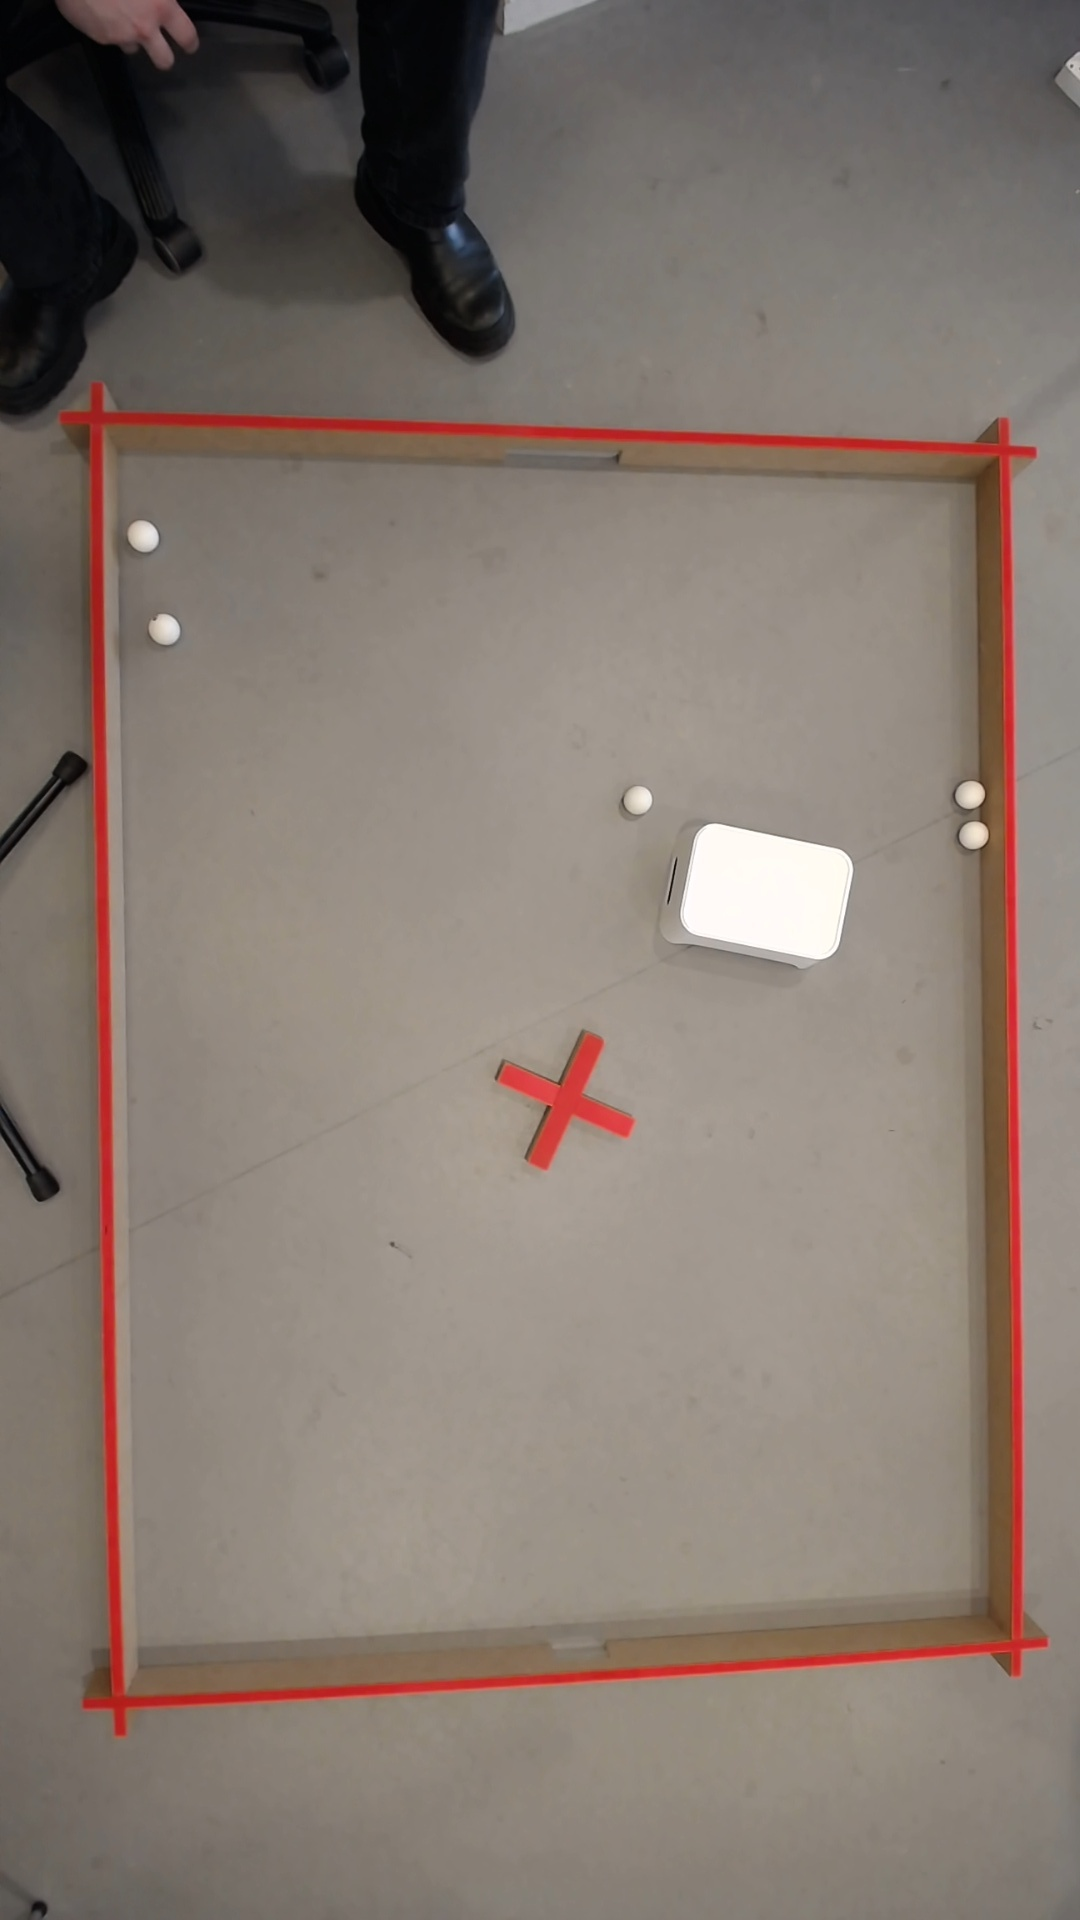balls: (674, 818, 857, 963), (128, 517, 162, 553), (152, 611, 182, 644), (960, 819, 989, 848), (963, 782, 982, 804)
car: (626, 783, 655, 812)
